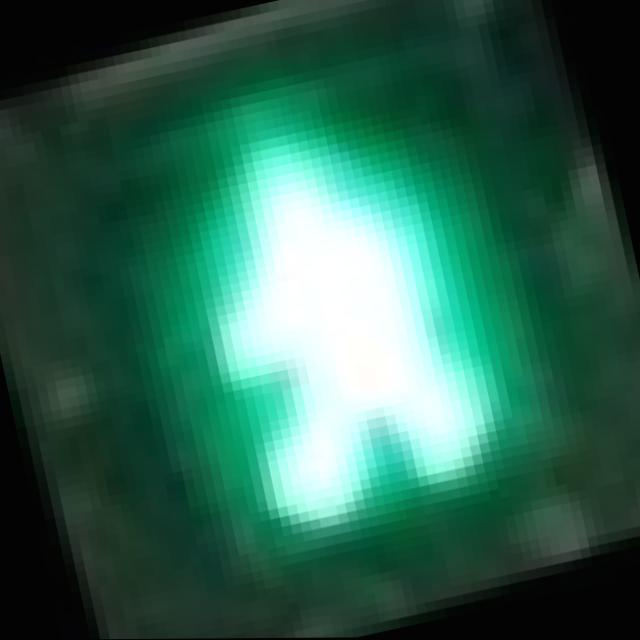green_light: (78, 42, 539, 580)
